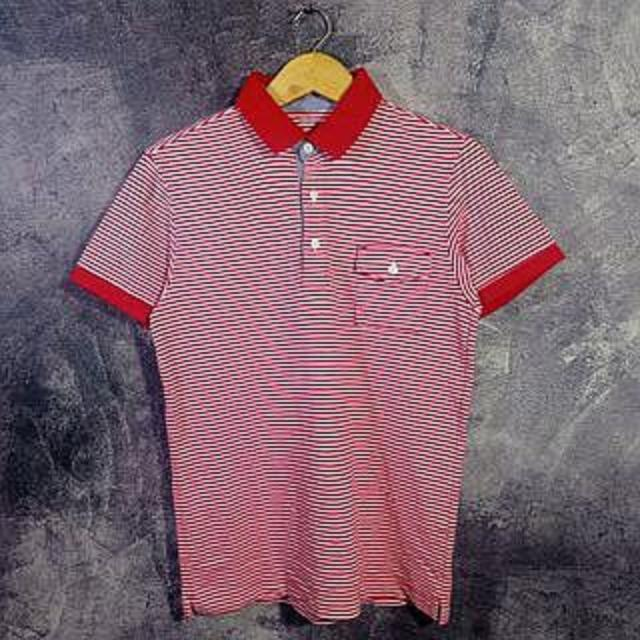T_SHIRT: (48, 54, 579, 628)
